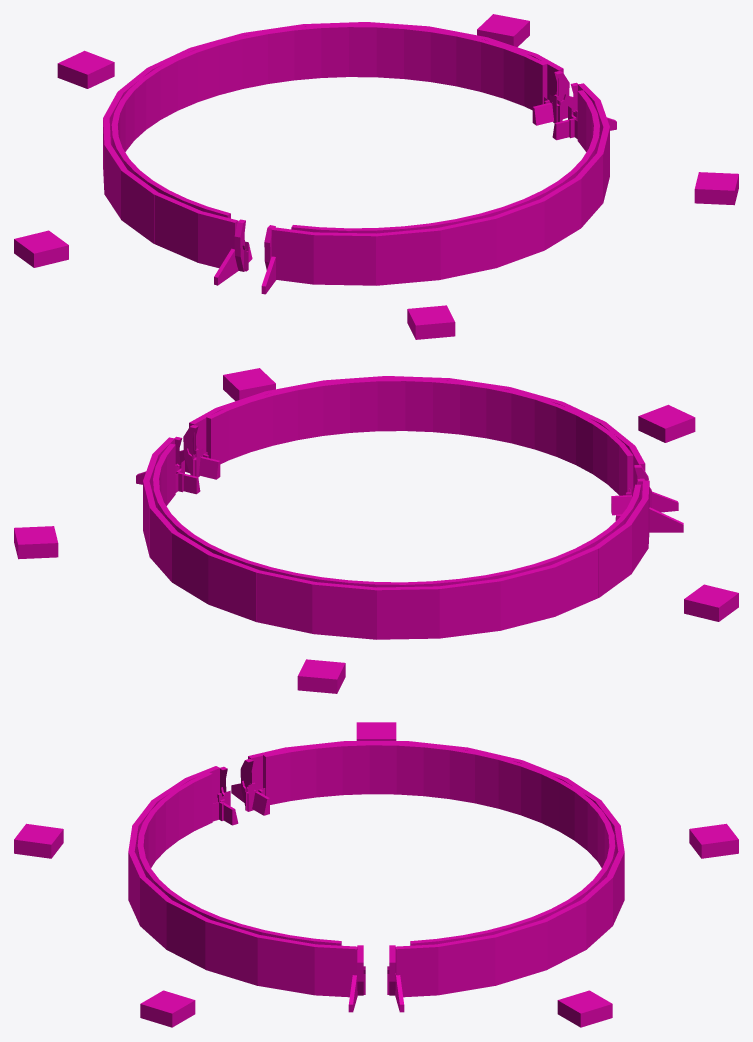
File: DomeColliders.fbx
The picture shows the model from 3 angles, top to bottom: view 1: azimuth 30°, elevation 25°; view 2: azimuth 150°, elevation 25°; view 3: azimuth 270°, elevation 25°; orthographic projection. The views are drawn at different scales.
Visible parts, largest first — view 1: Colliders_GEO; view 2: Colliders_GEO; view 3: Colliders_GEO.
Part boxes in pixels (x1,y1,x2,y2): Colliders_GEO: (14,14,738,339); Colliders_GEO: (14,368,738,693); Colliders_GEO: (14,722,738,1027).
Bounding box in the file's own units: 28265 × 2305 × 29719.
